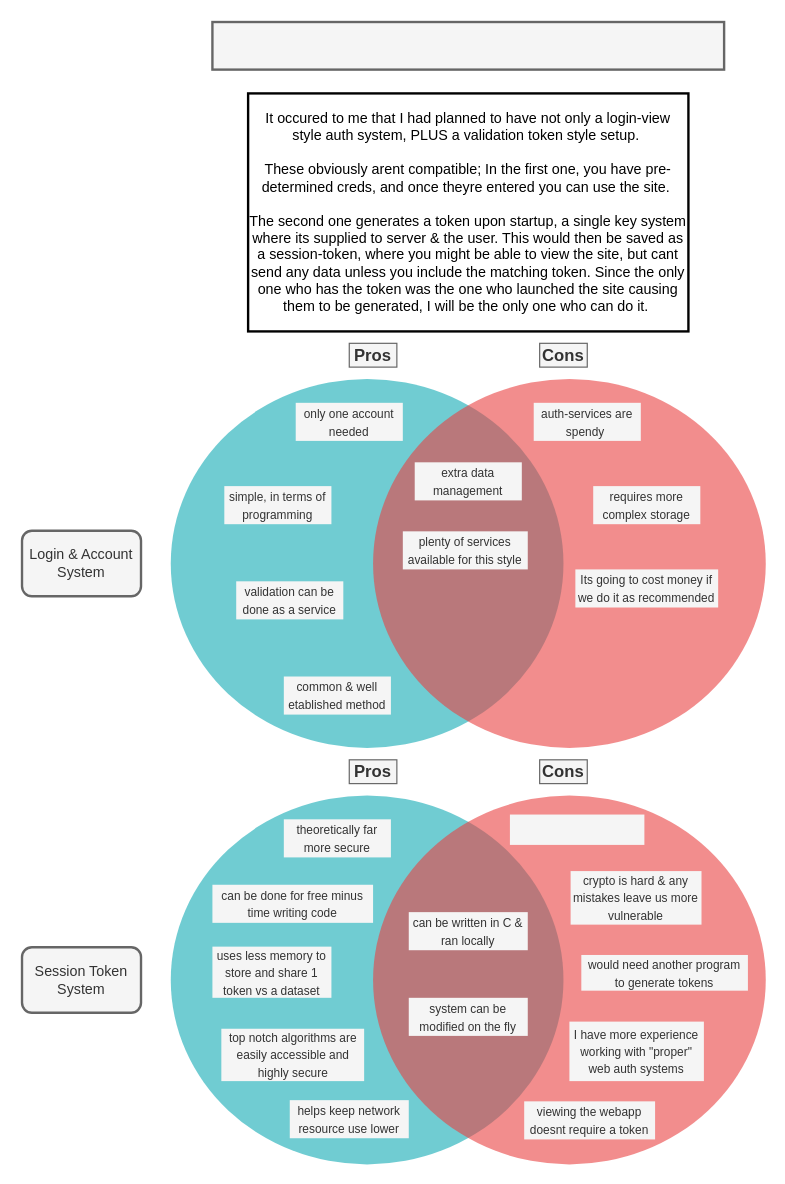
The diagram is 785 pixels wide and 1184 high, and some of its shapes have lost their labels. Here are the shapes that lost their labels. From the top down, the centre of each, then its label:
At (x=468, y=45): "EnvoyIO Authentication System Overview".
At (x=576, y=829): "debugging will be a pain".
